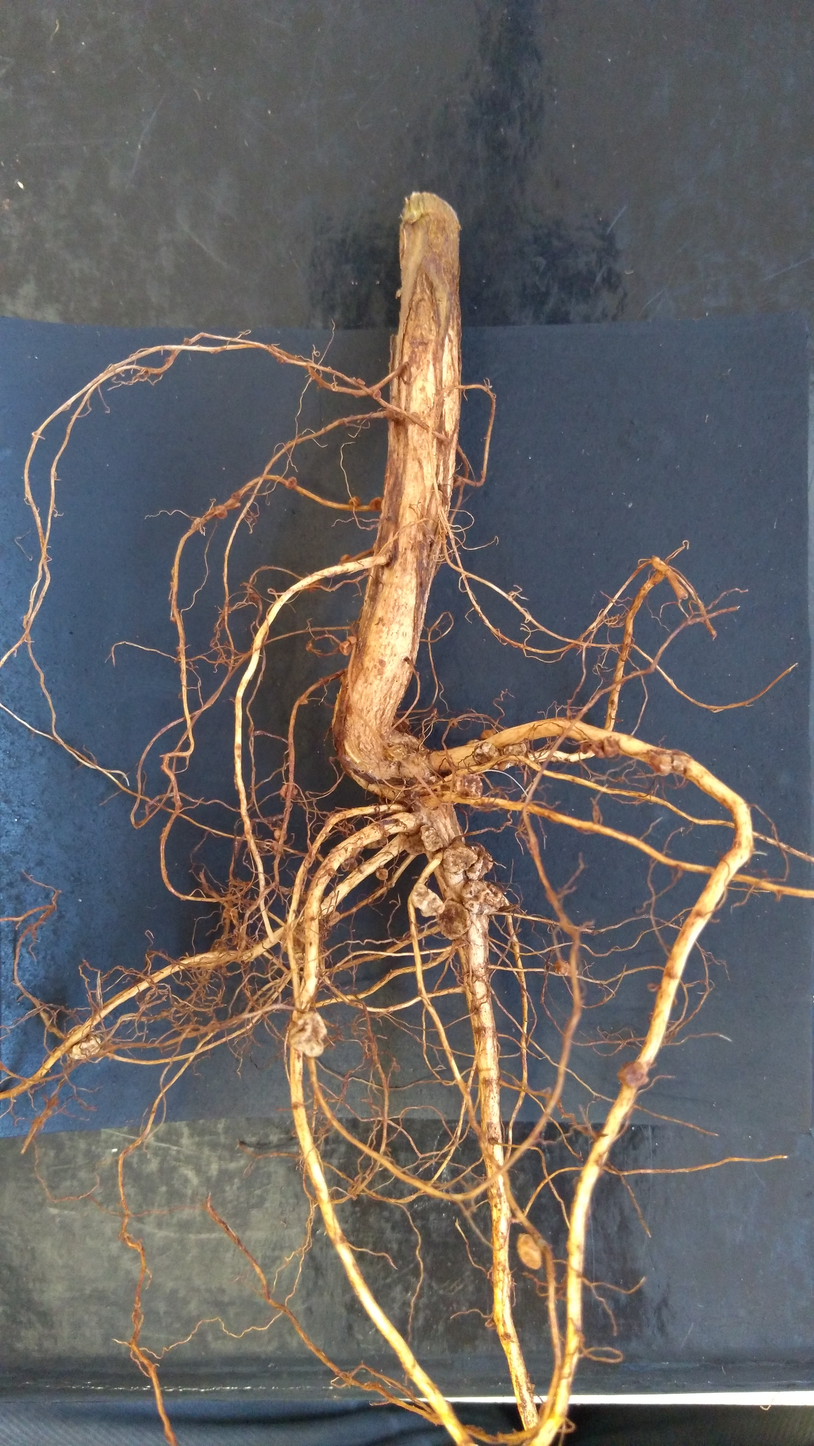nodule: (506, 1219, 550, 1277), (287, 1009, 331, 1063), (458, 876, 505, 917), (433, 898, 473, 942), (461, 837, 498, 884), (63, 1022, 105, 1062), (438, 839, 481, 877), (446, 769, 488, 807), (409, 881, 444, 922), (616, 1058, 651, 1091), (466, 740, 505, 768), (589, 733, 623, 761), (499, 736, 535, 761), (395, 831, 428, 858), (418, 824, 445, 852), (552, 954, 579, 980), (382, 741, 409, 762), (340, 854, 363, 876), (278, 781, 302, 802), (213, 503, 230, 524), (283, 474, 300, 494), (369, 494, 386, 514), (576, 738, 593, 758), (271, 827, 291, 843), (478, 725, 499, 740), (373, 866, 390, 883), (338, 640, 354, 657), (371, 387, 385, 402), (347, 495, 363, 508), (345, 634, 360, 647), (339, 550, 352, 564), (356, 376, 368, 388), (446, 717, 459, 728)
